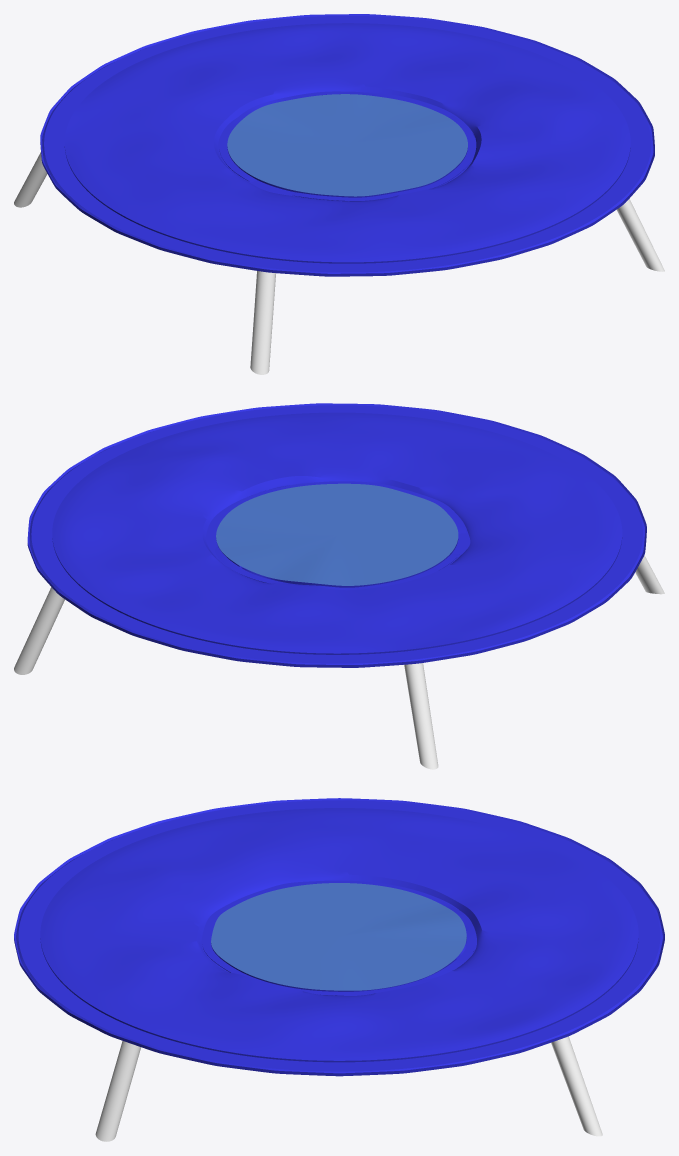
Rendered from ParkourTrampoline.fbx.
3 views of the same model, one above another, from view 1: azimuth 30°, elevation 25°; view 2: azimuth 150°, elevation 25°; view 3: azimuth 270°, elevation 25° (orthographic). The views are drawn at different scales.
Visible parts, largest first — view 1: HighJumpObject, Rod3, Rod4, Rod1; view 2: HighJumpObject, Rod1, Rod2, Rod3; view 3: HighJumpObject, Rod4, Rod2.
Boxes of the visible parts, x1=… form: HighJumpObject: x1=40, y1=14, x2=654, y2=276; Rod3: x1=250, y1=271, x2=275, y2=374; Rod4: x1=616, y1=199, x2=664, y2=271; Rod1: x1=14, y1=152, x2=47, y2=207; HighJumpObject: x1=27, y1=403, x2=646, y2=667; Rod1: x1=404, y1=663, x2=438, y2=769; Rod2: x1=14, y1=587, x2=64, y2=674; Rod3: x1=635, y1=555, x2=664, y2=594; HighJumpObject: x1=14, y1=798, x2=664, y2=1076; Rod4: x1=95, y1=1041, x2=140, y2=1141; Rod2: x1=551, y1=1036, x2=602, y2=1136.
Bounding box in the file's own units: 1597 × 297 × 1597.
